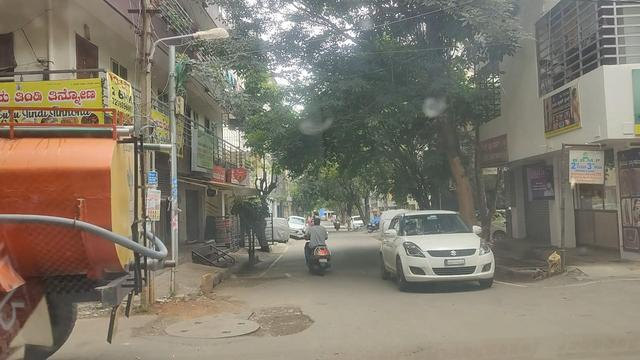HMV: (0, 105, 156, 360)
LMV: (371, 205, 501, 296), (304, 200, 344, 284)
RoadDamages: (165, 298, 318, 349)
